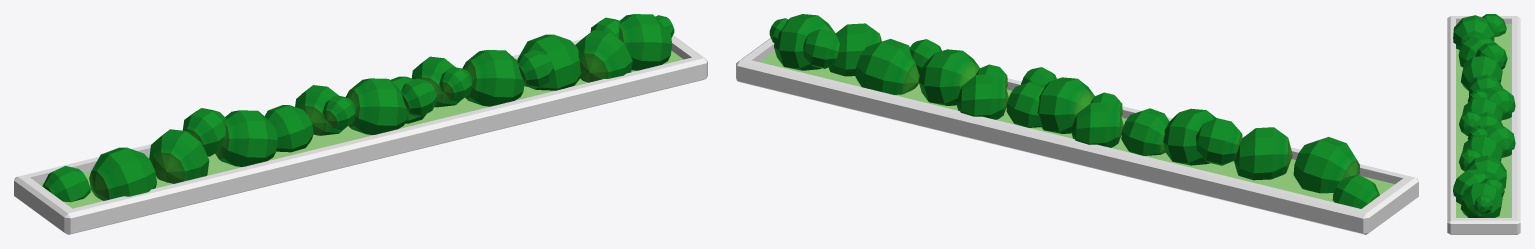
Rendered from clumba.fbx.
The picture shows the model from 3 angles, left to right: view 1: azimuth 30°, elevation 25°; view 2: azimuth 150°, elevation 25°; view 3: azimuth 270°, elevation 25°; orthographic projection. The views are drawn at different scales.
Parts seen in each view (by area): view 1: Bushes_3, Bed; view 2: Bushes_3, Bed; view 3: Bushes_3, Bed.
Part boxes in pixels (left/top/right/bottom): Bushes_3: left=42, top=14, right=674, bottom=202; Bed: left=14, top=35, right=707, bottom=234; Bushes_3: left=769, top=14, right=1379, bottom=208; Bed: left=736, top=38, right=1418, bottom=234; Bushes_3: left=1453, top=14, right=1515, bottom=217; Bed: left=1447, top=16, right=1520, bottom=234.
Size of the model in its own units: 5565 by 552 by 830.
1 material, 1 textured.
